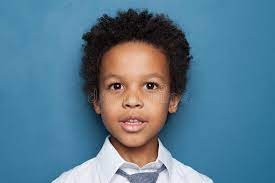person: (81, 8, 184, 150)
